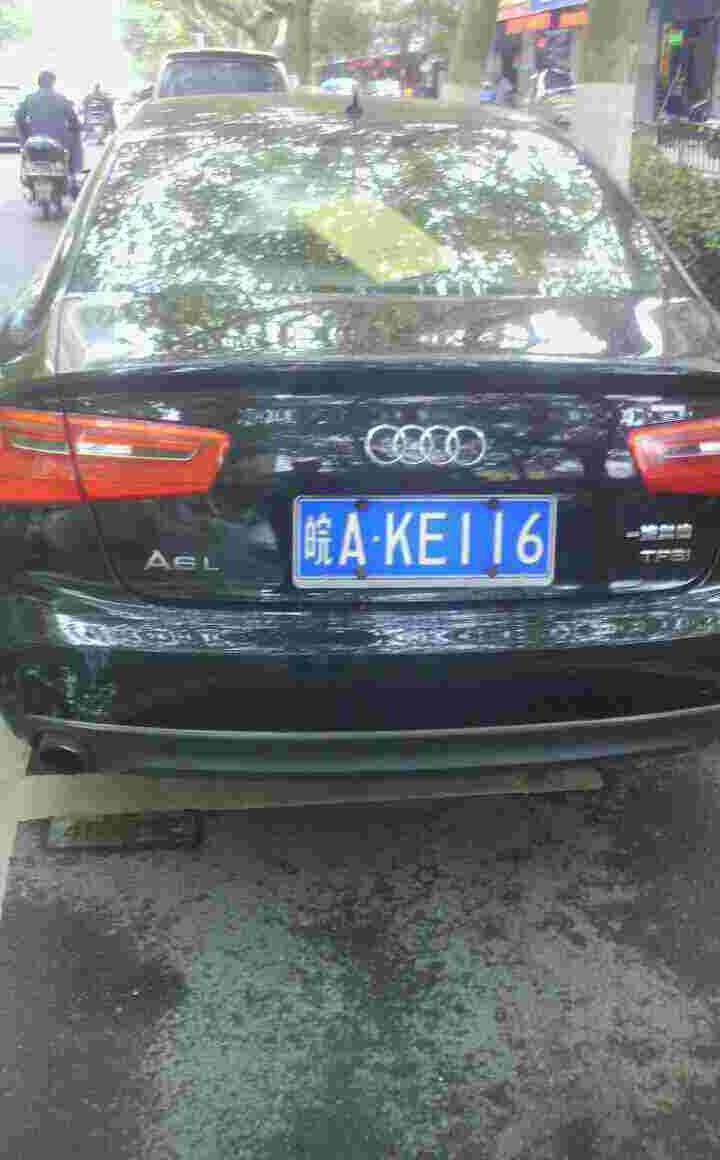plate: (299, 494, 560, 583)
